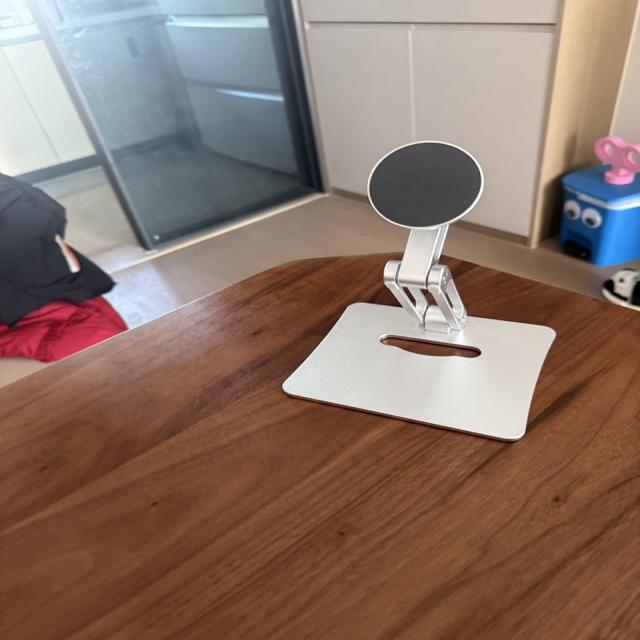phone holder: (282, 127, 562, 460)
